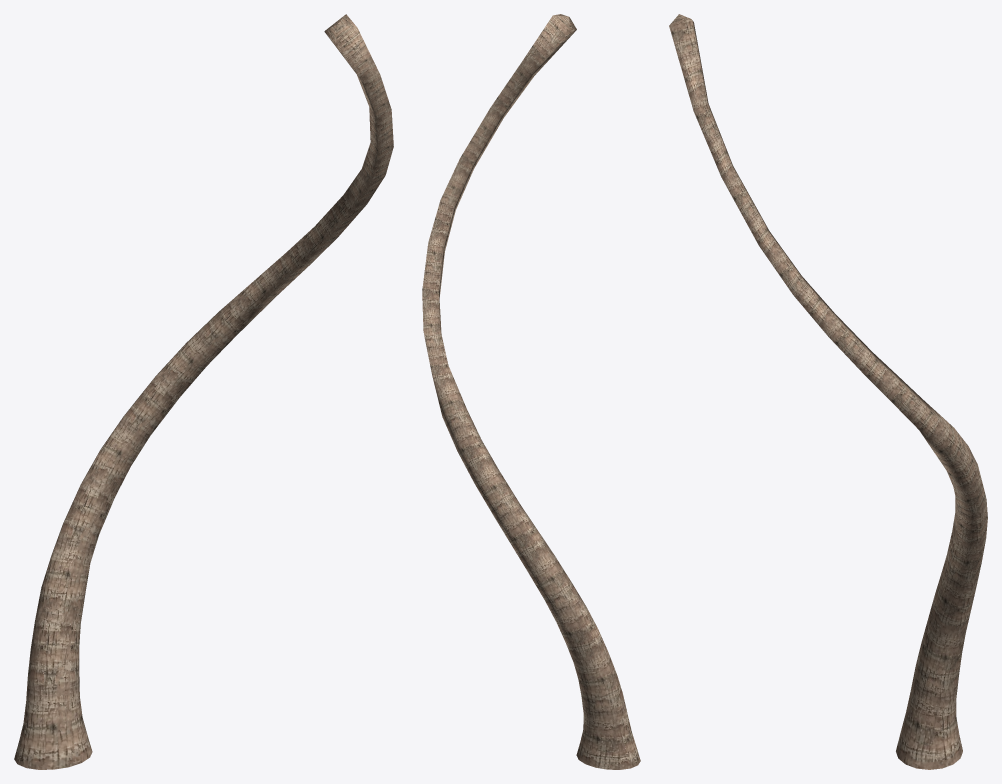
File: m_palm_p2_9_trunk_0.001.glb
The picture shows the model from 3 angles, left to right: view 1: azimuth 30°, elevation 25°; view 2: azimuth 150°, elevation 25°; view 3: azimuth 270°, elevation 25°; orthographic projection. The views are drawn at different scales.
Parts seen in each view (by area): view 1: M_Palm_P2_9_Trunk_0.001; view 2: M_Palm_P2_9_Trunk_0.001; view 3: M_Palm_P2_9_Trunk_0.001.
Boxes of the visible parts, x1,y1,x2,y2 form: M_Palm_P2_9_Trunk_0.001: (14,14,393,769); M_Palm_P2_9_Trunk_0.001: (422,14,640,769); M_Palm_P2_9_Trunk_0.001: (669,14,987,769).
Size of the model in its own units: 1.88 by 4.6 by 1.61.
Materials: 1 (1 with a texture image).
